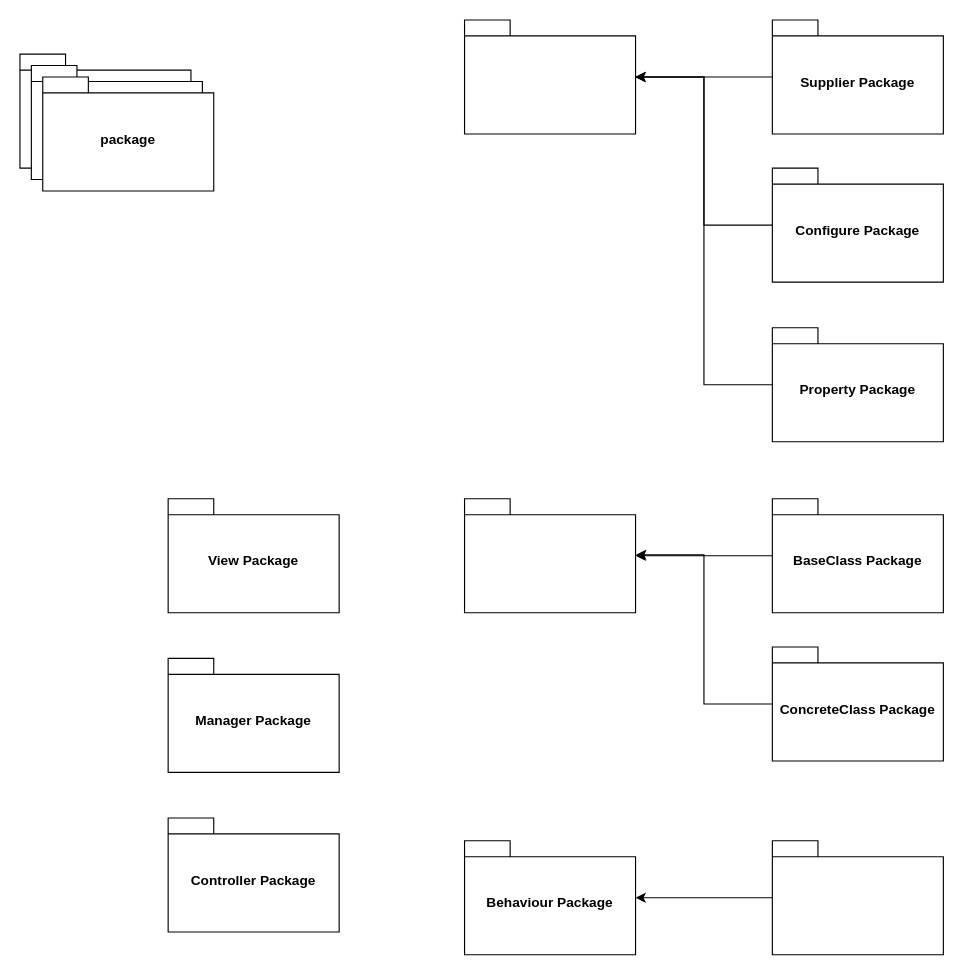
Image size: 963x975. Some labels were removed from this diagram. The centre of each missing label's shape, as x and y in pixels:
"Attack Package" goes at point 857,897.
"Data Package" goes at point 549,76.
"GameObject Package" goes at point 549,555.
